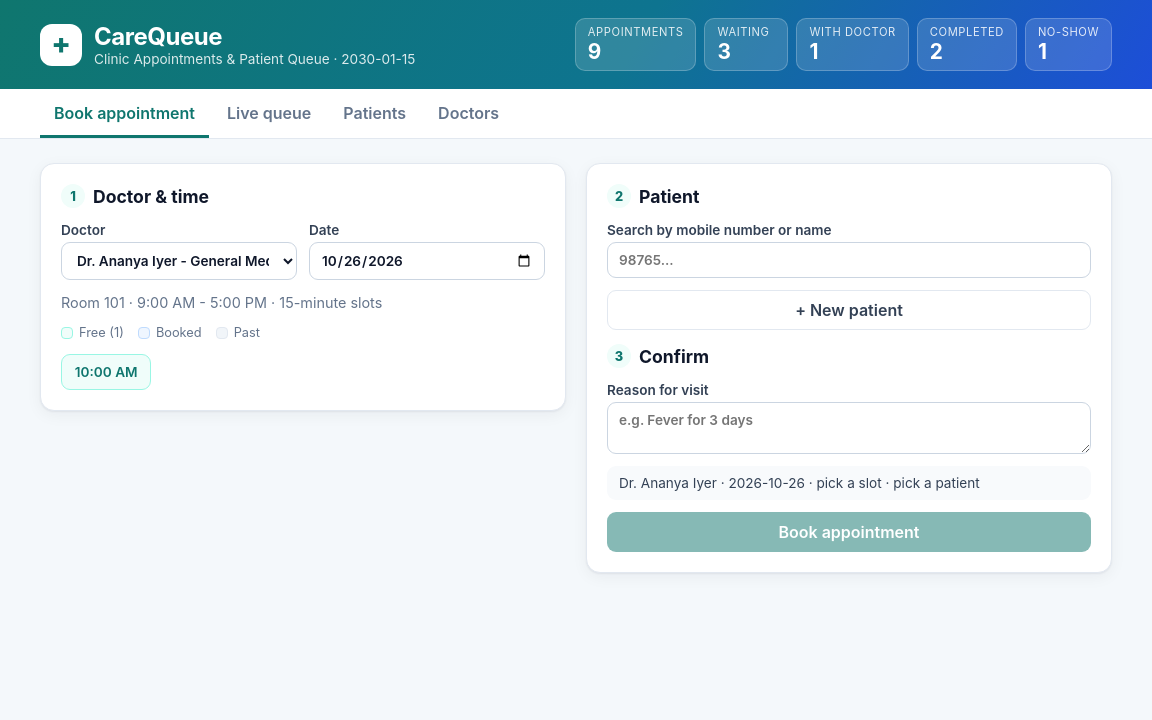
Test: App › lists patients with formatted phone numbers
The image size is (1152, 720).
What coordinates should you click on to do the following:
click the link "Patients"
I would click on:
 (375, 113)
Its box is x1=343 y1=103 x2=406 y2=123.
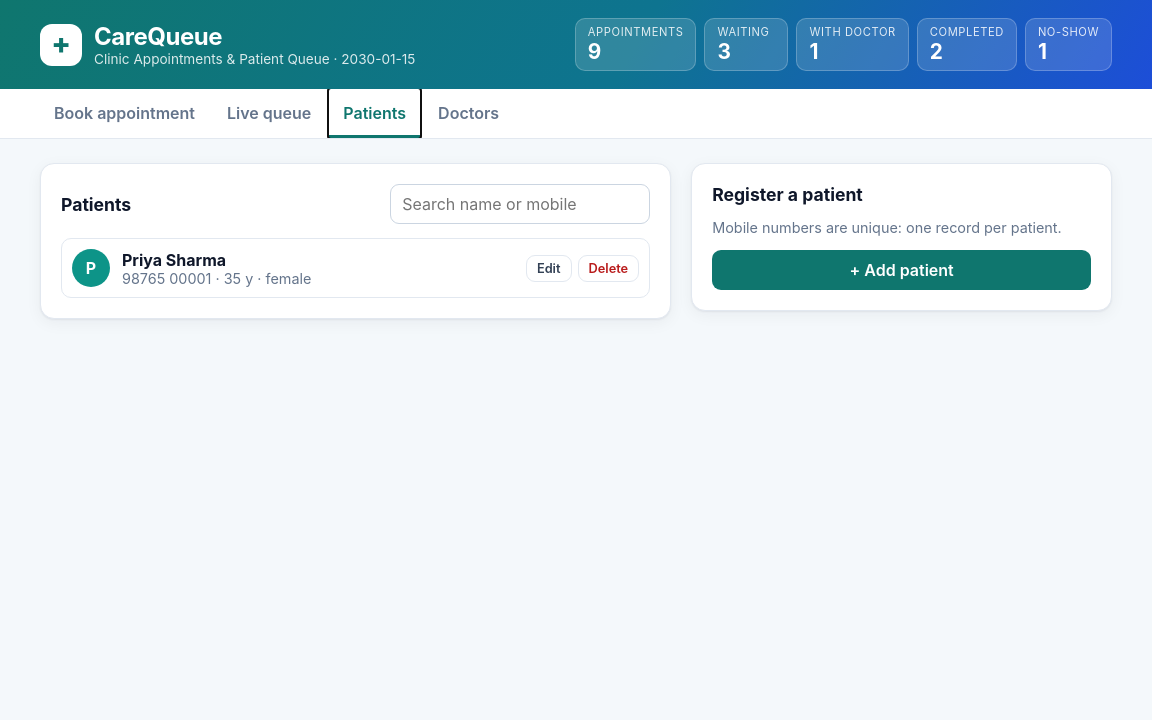
Expected: the text "98765 00001 · 35 y · female" is shown, x1=122 y1=270 x2=311 y2=286
